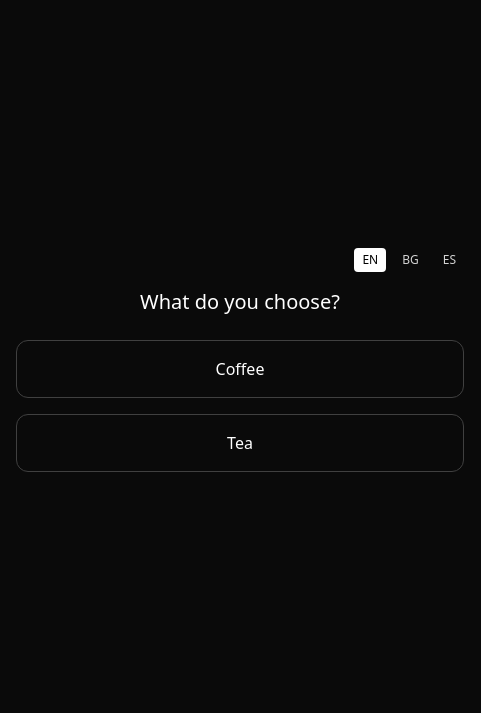
Test: App i18n › displays localized result text after completing quiz
The image size is (481, 713).
Click the button "BG" at {"x": 410, "y": 260}, box [394,248,427,272]
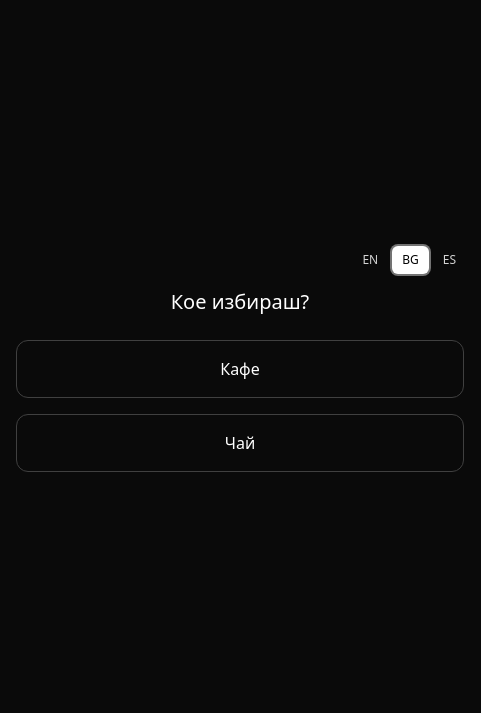
Click the button "Кафе" at {"x": 240, "y": 369}, box [16,340,464,398]
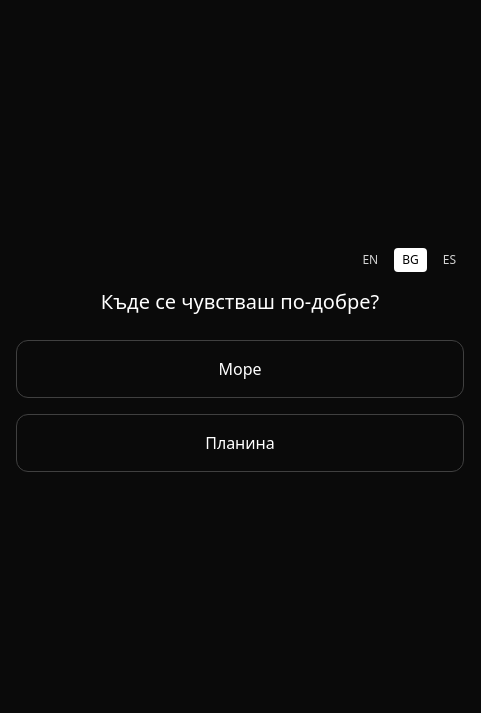
Click the button "Море" at {"x": 240, "y": 369}, box [16,340,464,398]
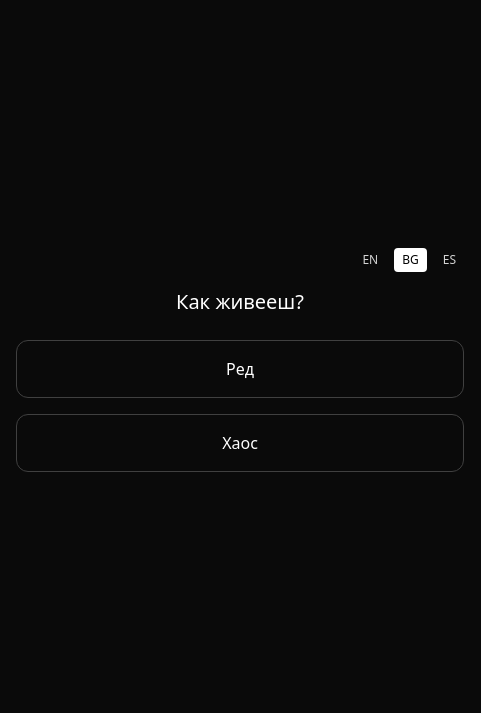
Click the button "Ред" at {"x": 240, "y": 369}, box [16,340,464,398]
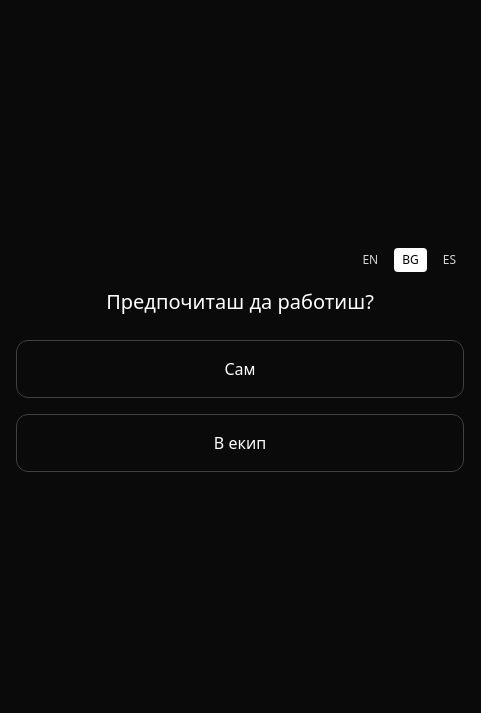
Click the button "Сам" at {"x": 240, "y": 369}, box [16,340,464,398]
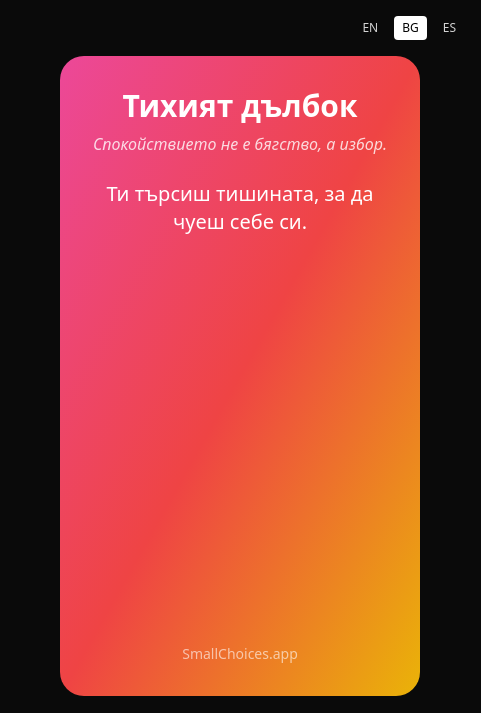
Expected: the heading "Тихият дълбок" is shown, [122,85,358,126]
